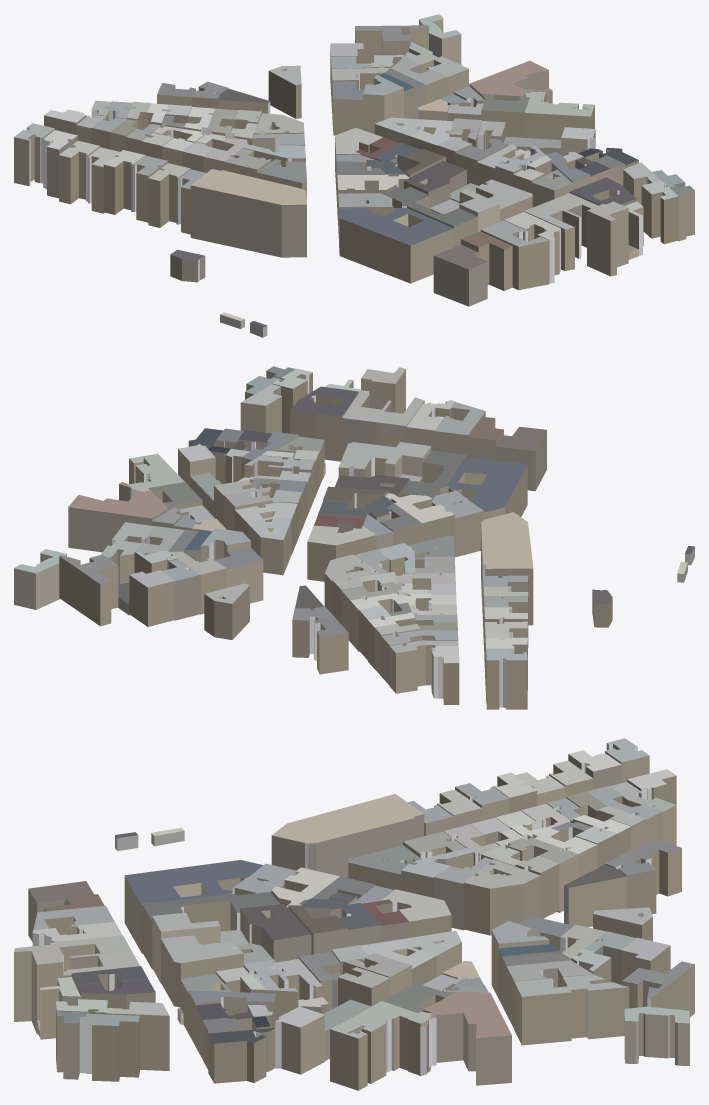
3 views of the same model, one above another, from view 1: azimuth 30°, elevation 25°; view 2: azimuth 150°, elevation 25°; view 3: azimuth 270°, elevation 25° (orthographic). The views are drawn at different scales.
Visible parts, largest first — view 1: tuile; view 2: tuile; view 3: tuile.
Part boxes in pixels (box(x1,y1,x2,y2)): tuile: box(14, 14, 694, 337); tuile: box(14, 366, 694, 709); tuile: box(14, 738, 694, 1090).
Size of the model in its own units: 276 by 39.43 by 271.
